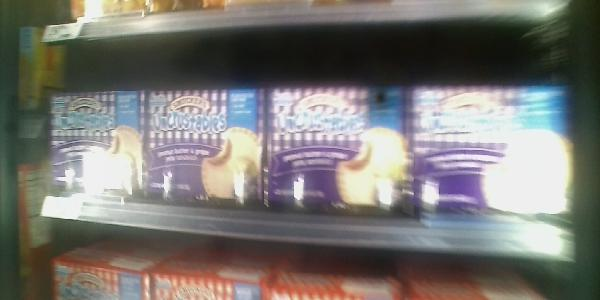icecream: (408, 81, 574, 220), (267, 82, 413, 219), (144, 86, 265, 215), (47, 89, 144, 205)
